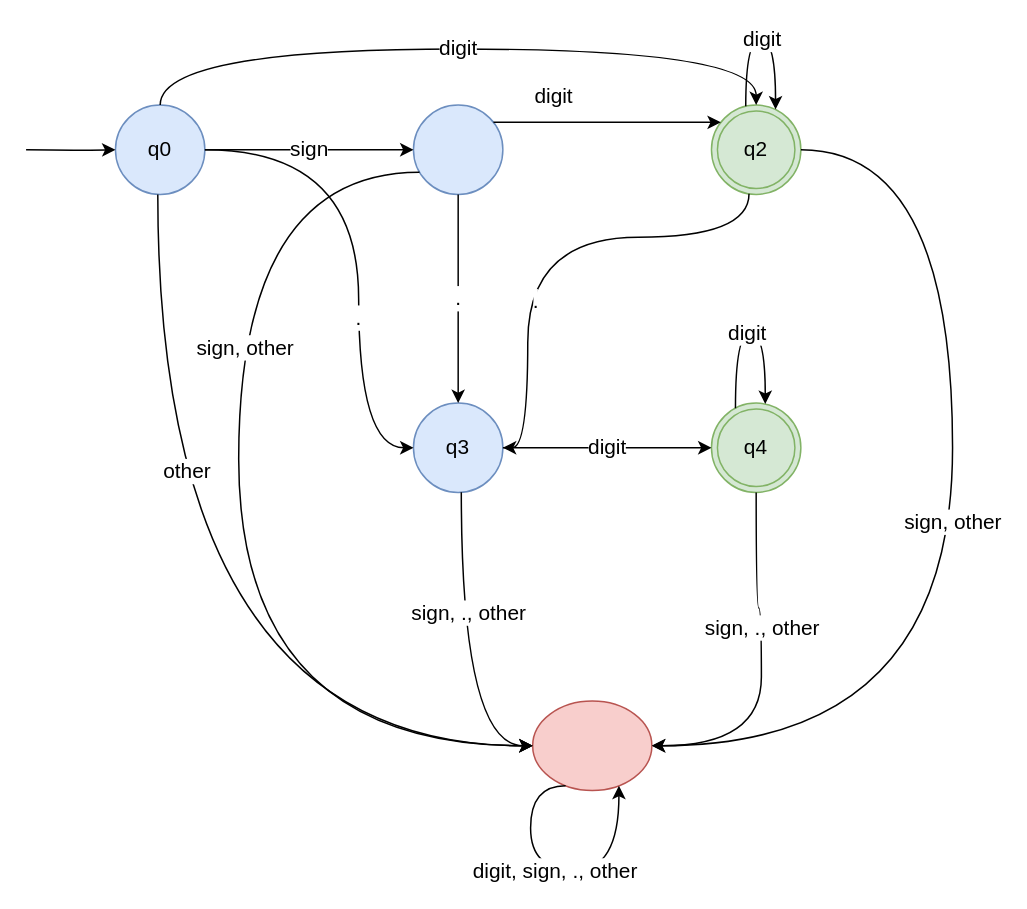
This 1027x909 diagram has some shape labels left out. The shapes that lost their labels are listed below. From the top down, each one's centre as x and y in pixels, then its label:
At point (457, 149): "q1".
At point (591, 745): "q5 (dead)".
